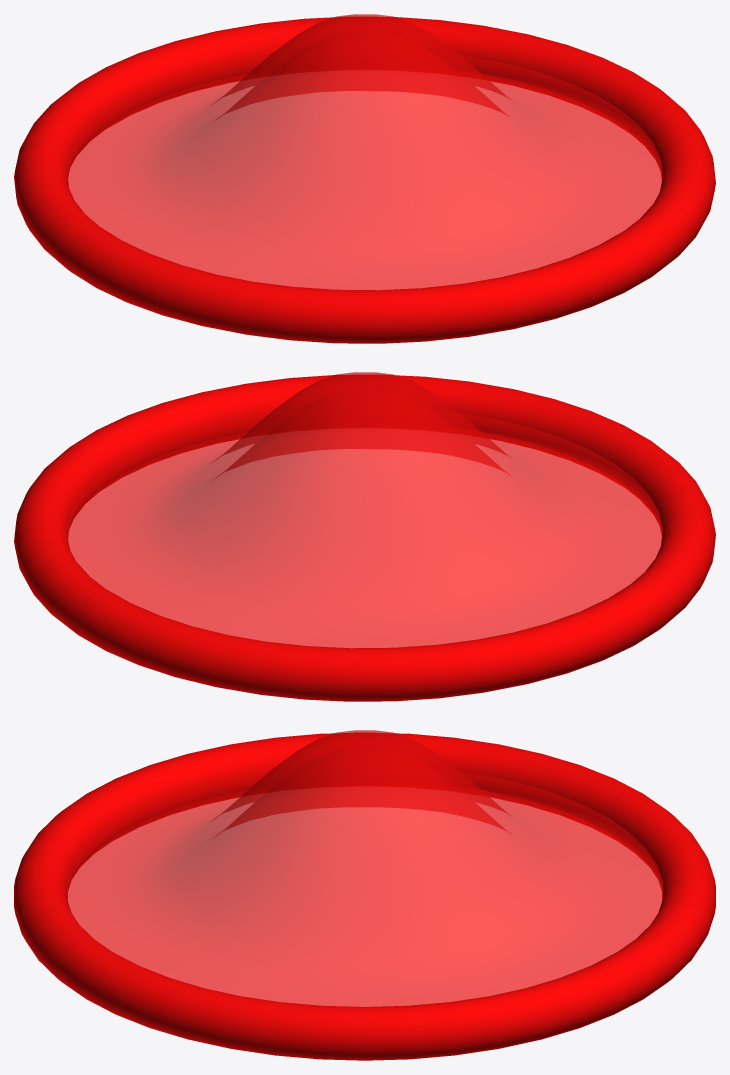
Rendered from condon.gltf.
The picture shows the model from 3 angles, top to bottom: view 1: azimuth 30°, elevation 25°; view 2: azimuth 150°, elevation 25°; view 3: azimuth 270°, elevation 25°; orthographic projection.
Visible parts, largest first — view 1: Mesh_1.002, Mesh_0.006; view 2: Mesh_1.002, Mesh_0.006; view 3: Mesh_1.002, Mesh_0.006.
Part boxes in pixels (x1,y1,x2,y2): Mesh_1.002: (67,14,662,290); Mesh_0.006: (14,17,715,343); Mesh_1.002: (67,372,662,648); Mesh_0.006: (14,375,715,701); Mesh_1.002: (67,730,662,1006); Mesh_0.006: (14,733,715,1060).
Bounding box in the file's own units: 3.95 × 1.1 × 3.94.
